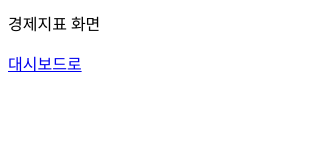
Test case: 최초관리자 전용 화면 › 최초관리자의 첫 화면은 경제지표이고, 메뉴에서 대시보드를 그대로 열 수 있다
The width and height of the screenshot is (320, 160).
Expected: the text "경제지표 화면" is shown, top-left (8, 16), bottom-right (100, 33)
Click the link "대시보드로" at point(45, 64), box top-left (8, 56), bottom-right (82, 73)
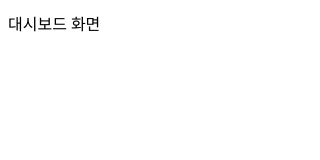
Expected: the text "대시보드 화면" is shown, top-left (8, 16), bottom-right (100, 33)
